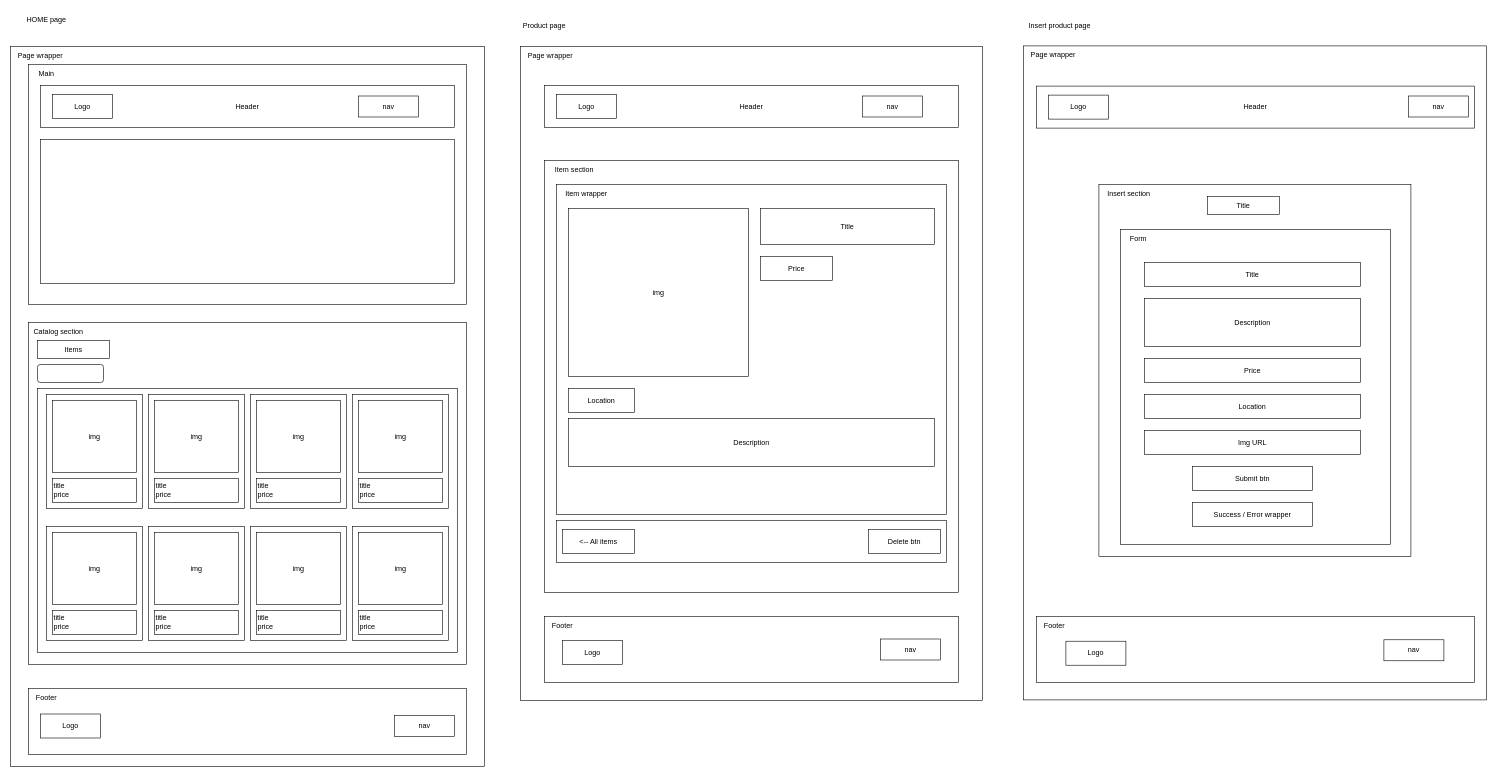
This 1497x777 diagram has some shape labels left out. Each missing label, with the box of its shape:
Buttons wrapper: (556, 520, 946, 562)
Heading: (40, 139, 454, 284)
Price min --> max: (37, 364, 104, 382)
